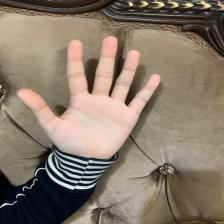five: (16, 33, 164, 162)
